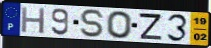3: (164, 13, 191, 43)
9: (50, 8, 70, 36)
H: (20, 6, 47, 35)
O: (105, 10, 134, 40)
S: (79, 8, 107, 39)
Z: (137, 12, 163, 41)
